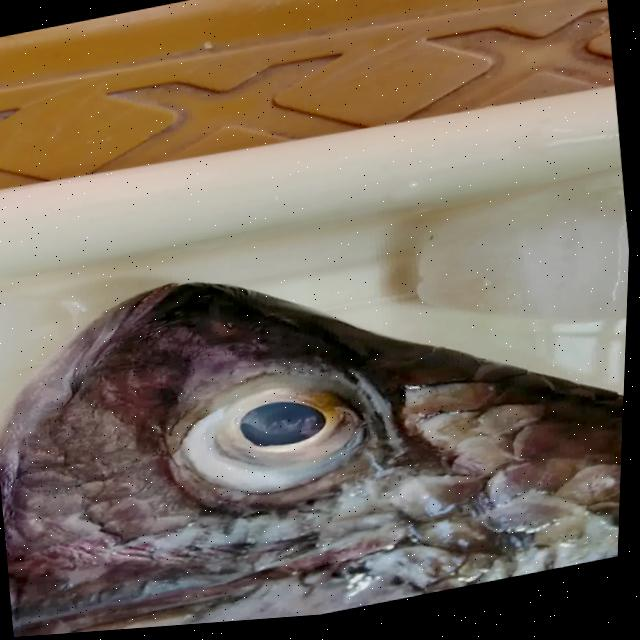Fresh: (143, 333, 462, 542)
